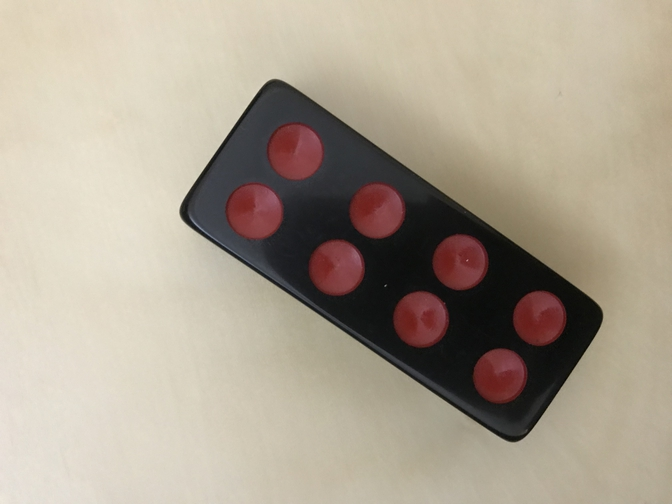man: (179, 80, 604, 442)
